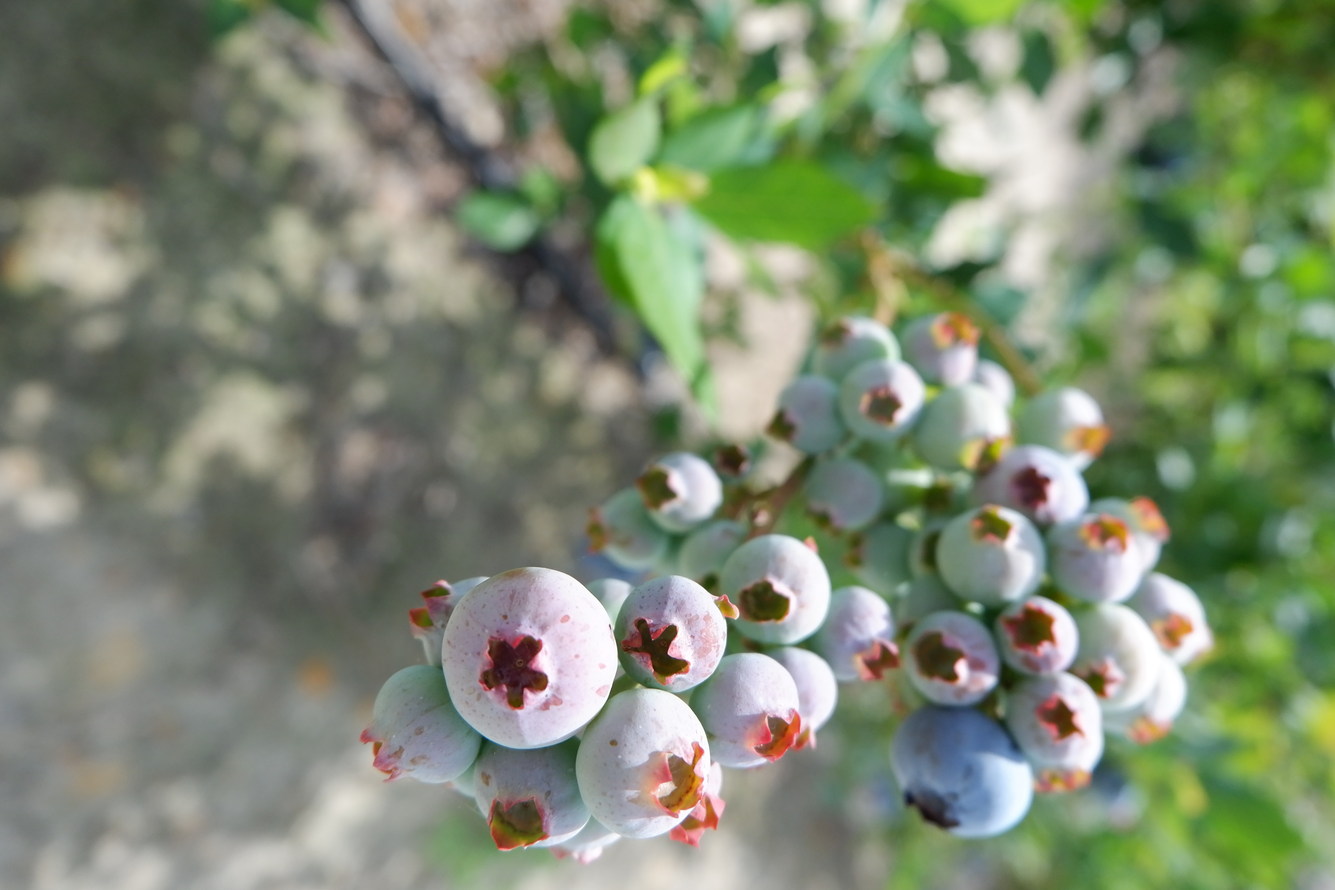Immature: (445, 572, 612, 748), (577, 692, 712, 836), (362, 670, 477, 782), (618, 580, 725, 691), (476, 743, 587, 847), (697, 656, 804, 763), (724, 539, 829, 645), (943, 508, 1045, 605), (1009, 675, 1103, 780), (969, 448, 1085, 533), (1071, 609, 1162, 712), (1048, 512, 1152, 602), (906, 612, 1000, 705), (808, 589, 899, 678), (1126, 571, 1212, 663), (918, 389, 1013, 471), (840, 360, 925, 440), (1019, 390, 1106, 467), (1105, 660, 1186, 741), (637, 455, 721, 532), (588, 489, 668, 569), (997, 600, 1078, 675), (413, 578, 480, 662), (843, 525, 917, 599), (809, 320, 898, 381), (903, 315, 979, 386), (774, 650, 836, 737), (773, 380, 845, 451), (807, 461, 883, 528), (676, 524, 743, 587), (899, 570, 966, 629), (676, 769, 726, 844), (1091, 499, 1167, 543), (554, 814, 613, 861), (968, 358, 1014, 408), (1032, 765, 1093, 793), (453, 757, 479, 803)
Mature: (896, 709, 1031, 835)
